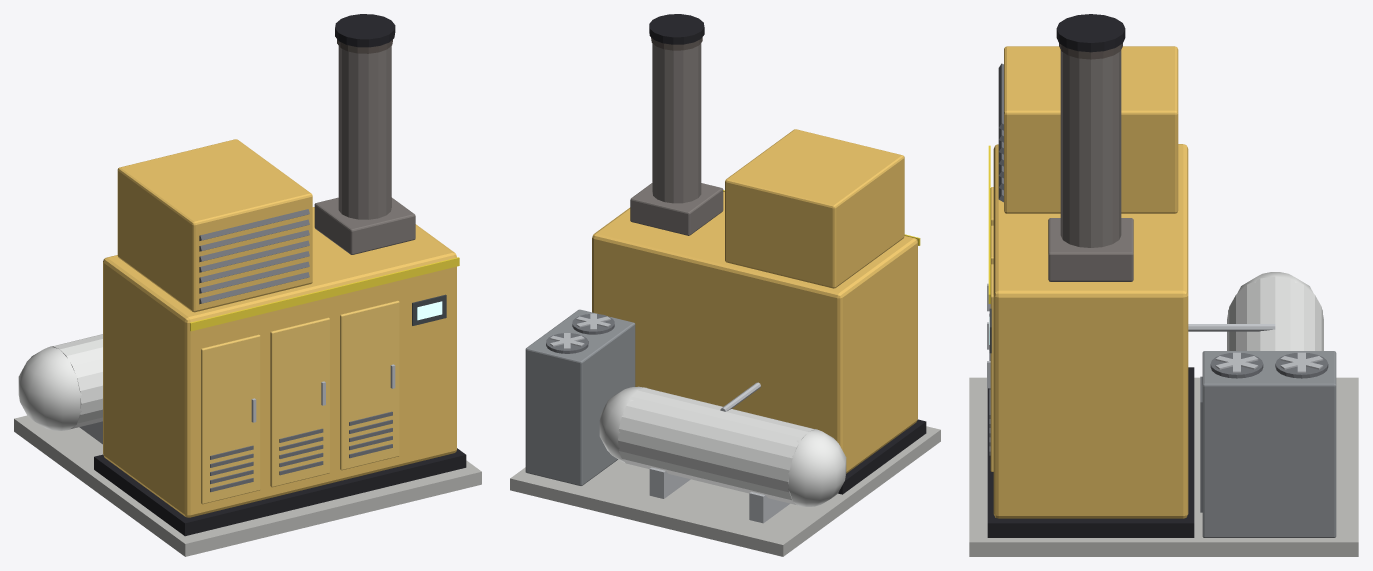
File: gen_big.fbx
3 views of the same model, side by side, from view 1: azimuth 30°, elevation 25°; view 2: azimuth 150°, elevation 25°; view 3: azimuth 270°, elevation 25° (orthographic). The views are drawn at different scales.
Parts seen in each view (by area): view 1: gen_big; view 2: gen_big; view 3: gen_big.
Boxes of the visible parts, x1,y1,x2,y2 form: gen_big: [14, 14, 481, 556]; gen_big: [510, 14, 940, 556]; gen_big: [969, 14, 1358, 556].
Size of the model in its own units: 2.09 by 2.69 by 1.92.
